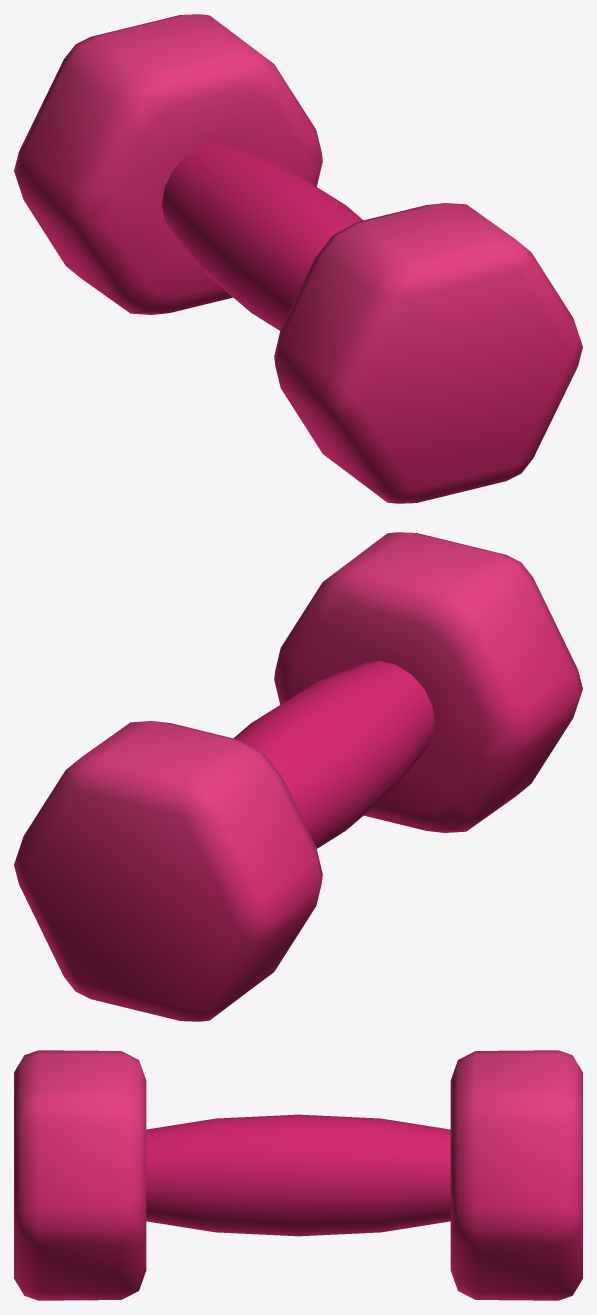
File: Dumbbell_01.glb
3 views of the same model, one above another, from view 1: azimuth 30°, elevation 25°; view 2: azimuth 150°, elevation 25°; view 3: azimuth 270°, elevation 25° (orthographic). The views are drawn at different scales.
Parts seen in each view (by area): view 1: Dumbbell_01; view 2: Dumbbell_01; view 3: Dumbbell_01.
Part boxes in pixels (x1,y1,x2,y2): Dumbbell_01: (14, 14, 582, 503); Dumbbell_01: (14, 532, 582, 1021); Dumbbell_01: (14, 1050, 582, 1300).
Size of the model in its own units: 0.1095 by 0.0997 by 0.2478.
1 material, 1 textured.
